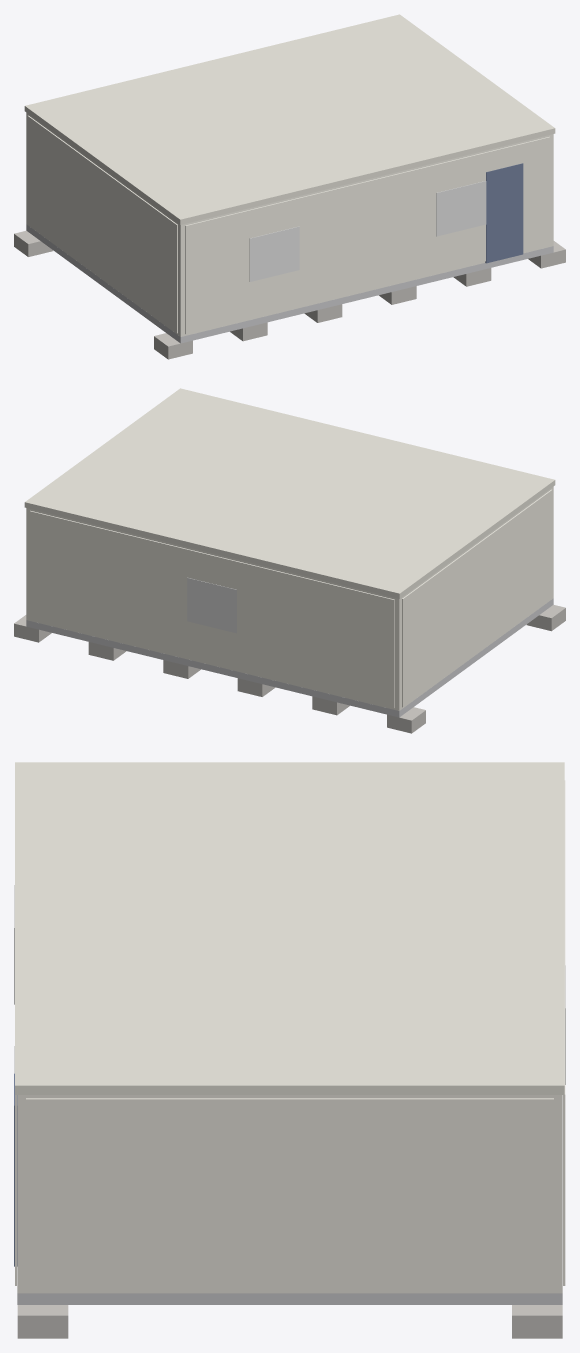
The model's file is Studio-30-Base-IvoryWhite-LOD3.glb.
3 renders of one model, top to bottom at view 1: azimuth 30°, elevation 25°; view 2: azimuth 150°, elevation 25°; view 3: azimuth 270°, elevation 25°, orthographic. The views are drawn at different scales.
Parts seen in each view (by area): view 1: RoofMain, ExteriorPanelsStandard, WindowsStandard, BaseFrame, FoundationBlocks, ExteriorShell, EntryDoor; view 2: RoofMain, ExteriorPanelsStandard, BaseFrame, ExteriorShell, FoundationBlocks, WindowsStandard; view 3: RoofMain, ExteriorPanelsStandard, ExteriorShell, BaseFrame, FoundationBlocks.
Boxes of the visible parts, x1,y1,x2,y2 form: RoofMain: (24, 14, 555, 224); ExteriorPanelsStandard: (27, 115, 549, 334); WindowsStandard: (249, 181, 486, 281); BaseFrame: (26, 224, 553, 343); FoundationBlocks: (14, 230, 565, 359); ExteriorShell: (26, 112, 553, 336); EntryDoor: (485, 163, 523, 263); RoofMain: (24, 388, 555, 598); ExteriorPanelsStandard: (30, 489, 552, 708); BaseFrame: (26, 598, 553, 717); ExteriorShell: (26, 486, 553, 710); FoundationBlocks: (14, 604, 565, 733); WindowsStandard: (187, 577, 236, 633); RoofMain: (15, 762, 564, 1094); ExteriorPanelsStandard: (15, 780, 565, 1290); ExteriorShell: (17, 1095, 562, 1293); BaseFrame: (17, 1293, 562, 1304); FoundationBlocks: (17, 1305, 562, 1338).
Size of the model in its own units: 9.6 by 3.17 by 6.53.
